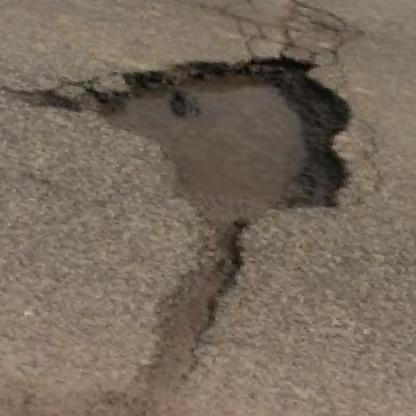pothole: (89, 22, 378, 233)
